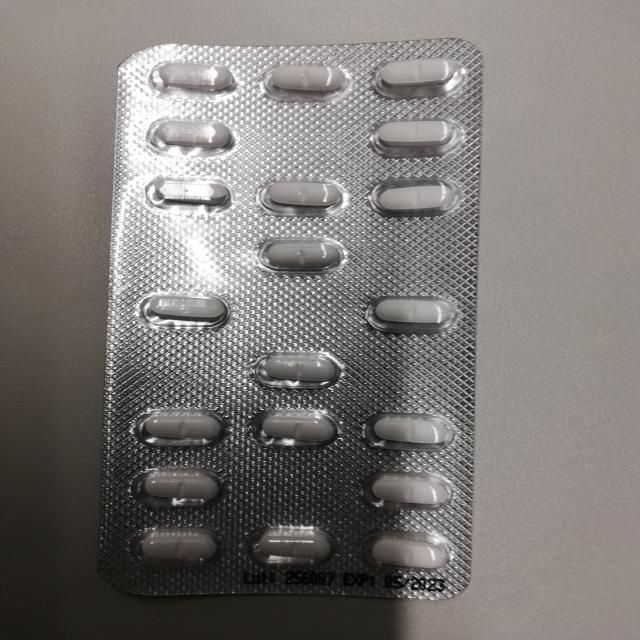Pill: (120, 462, 224, 506), (130, 284, 233, 328), (245, 344, 346, 388), (361, 531, 459, 575), (124, 524, 220, 566), (357, 467, 454, 508), (365, 53, 463, 93), (250, 524, 335, 570), (363, 114, 463, 153), (365, 179, 465, 218), (368, 408, 456, 452), (257, 57, 352, 97), (144, 57, 241, 96), (128, 404, 218, 446), (255, 233, 352, 271), (146, 171, 235, 212), (367, 292, 457, 332), (258, 174, 346, 214), (250, 407, 337, 444), (146, 114, 230, 151)
